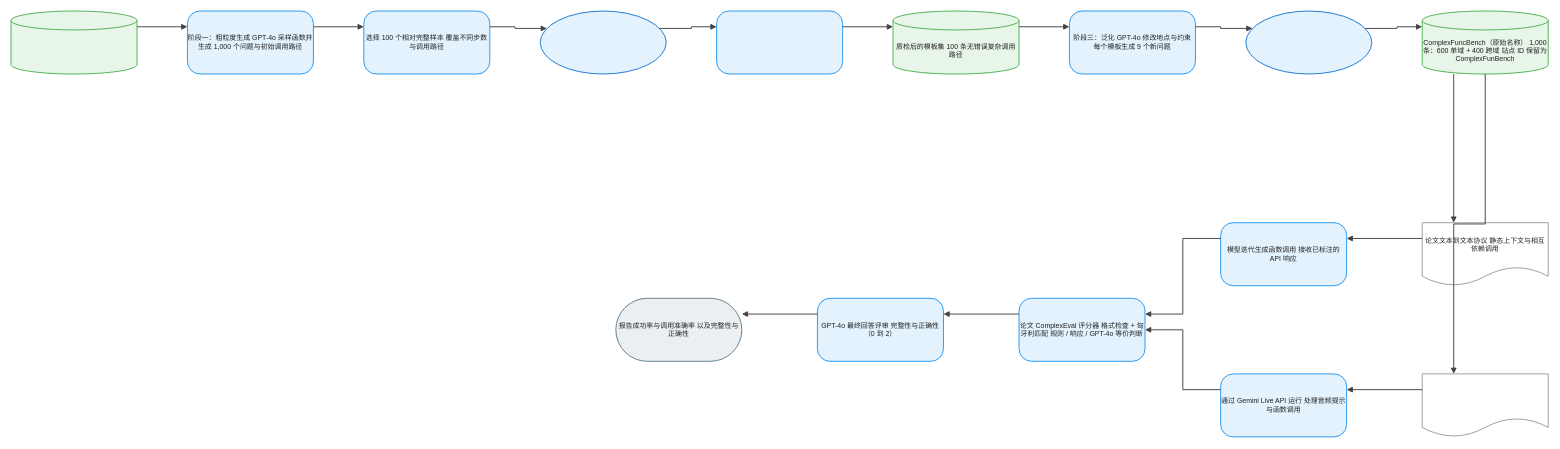
The diagram is 1560 pixels wide and 449 high, and some of its shapes have lost their labels. The shapes that lost their labels are listed below. From the top down, each one's centre as x and y in pixels, then its label:
(x=73, y=42): Booking.com（经 RapidAPI） 五个领域的 43 个实时 API 人工修正函数描述
(x=602, y=42): 阶段二：资深标注 改写问题、修正参数 构造最短且完整的调用路径
(x=779, y=42): 消除歧义 排除功能重叠函数并删除 导致多个有效参数的 API 结果
(x=1308, y=42): 初级标注员填写参数 保留路径并消除响应歧义
(x=1484, y=405): Google 音频适配 为每条提示合成音频
